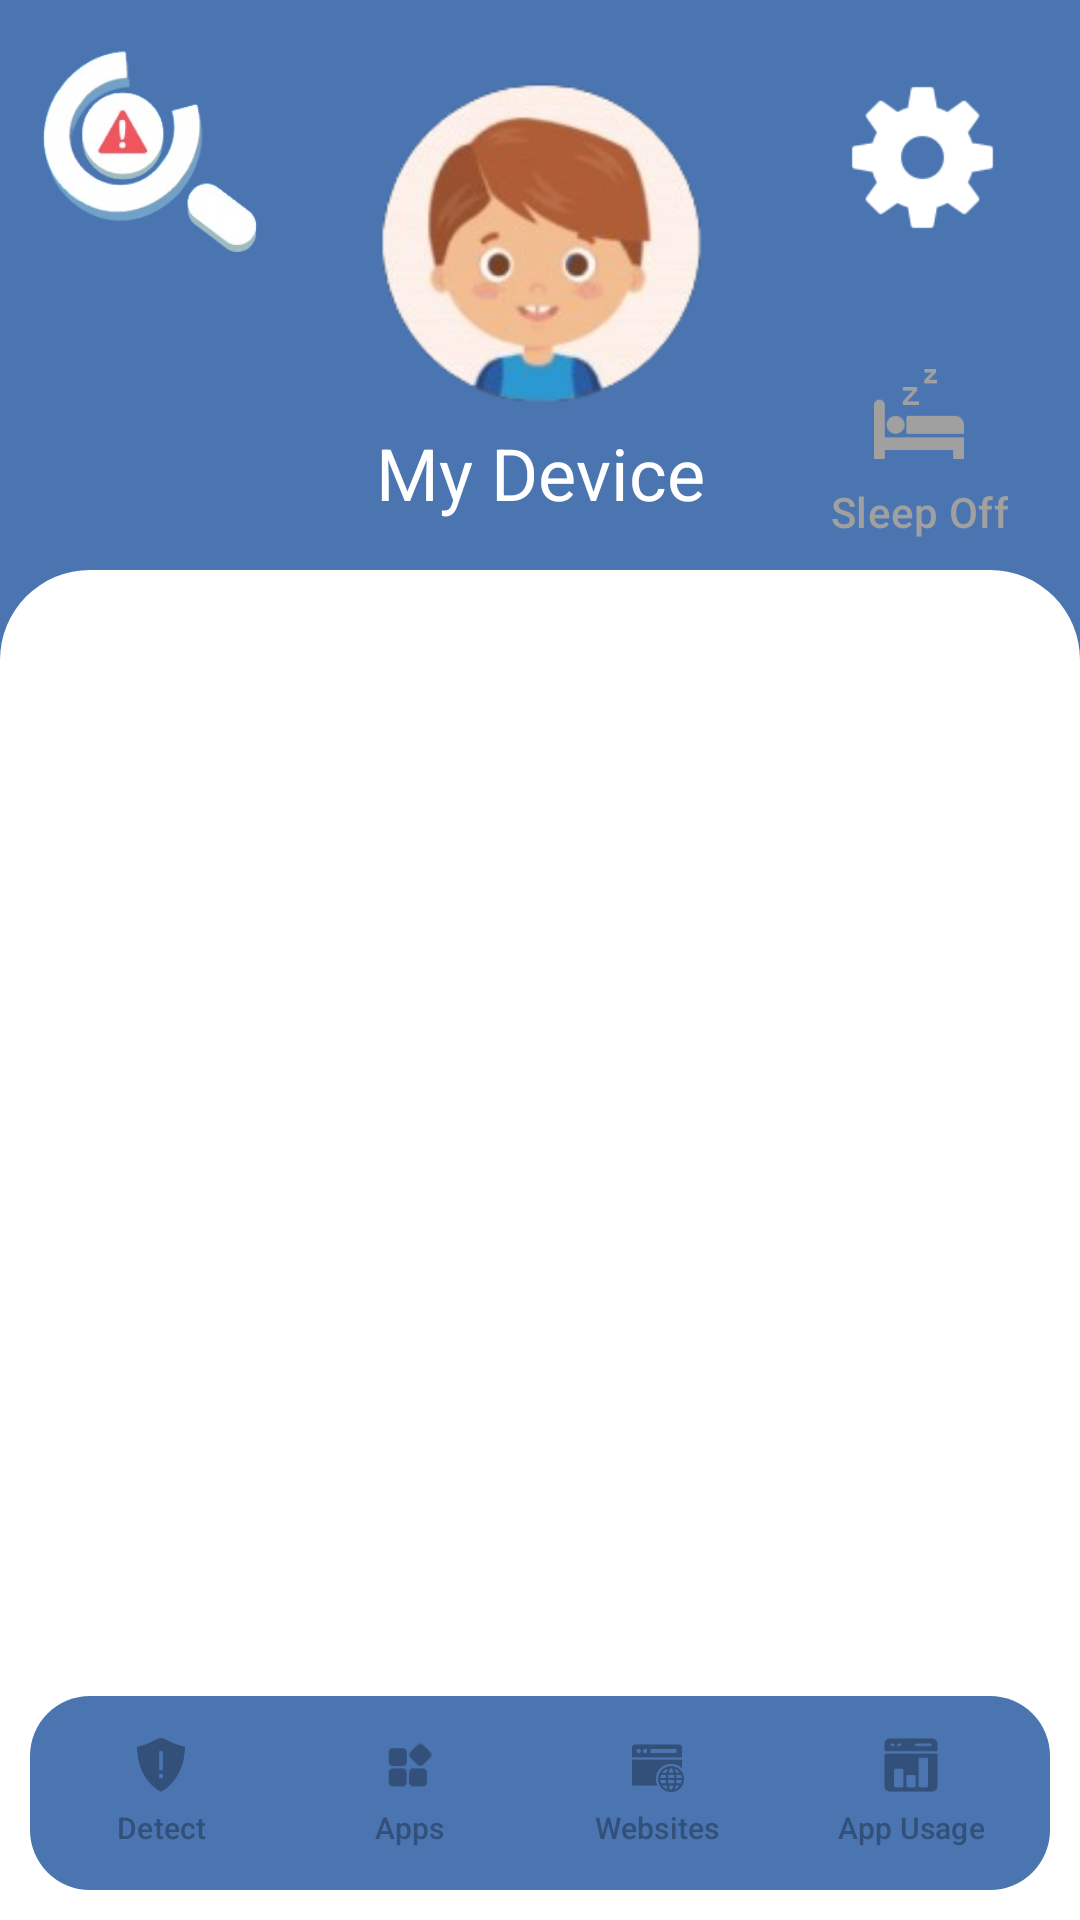

Icon click points for this 1080×1920 phone screenshot, format (x=x, y=y):
settings: (x=922, y=157)
